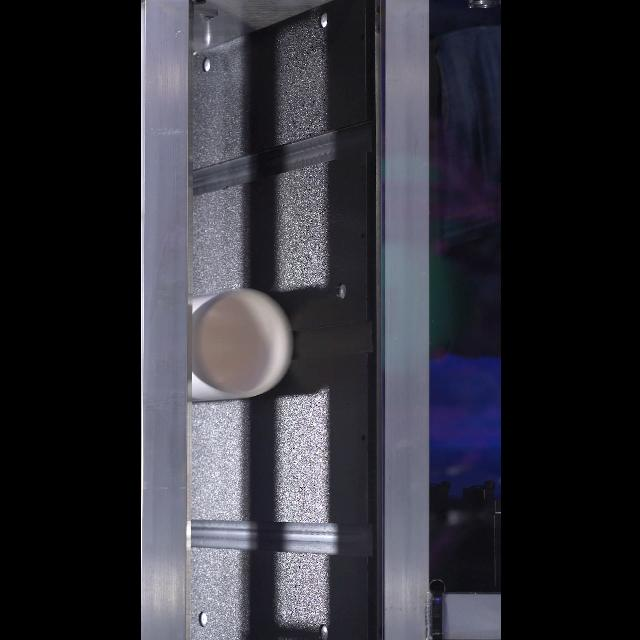CORAL: (192, 288, 292, 399)
